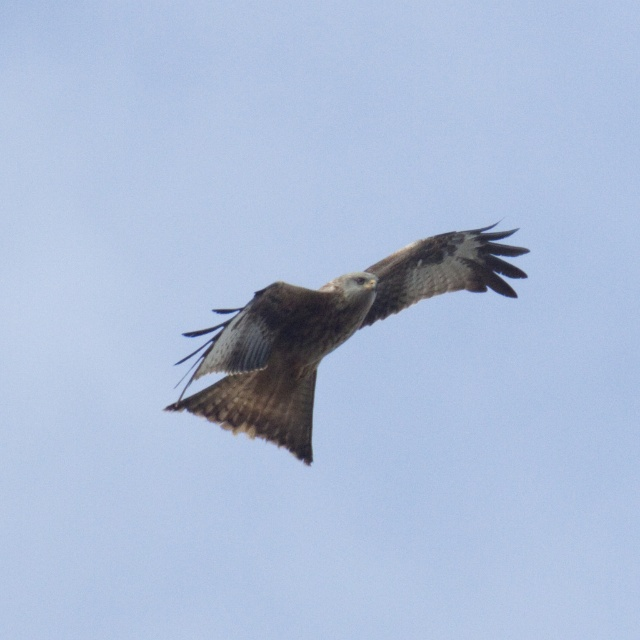Eagle: (161, 209, 535, 464)
